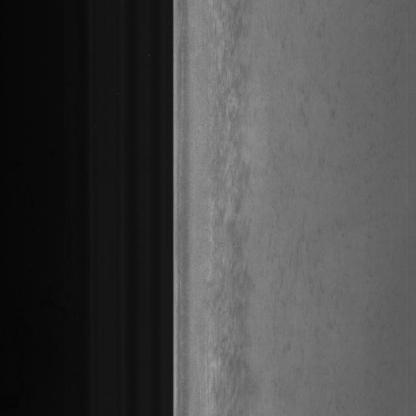silk_spot: (206, 30, 257, 396)
